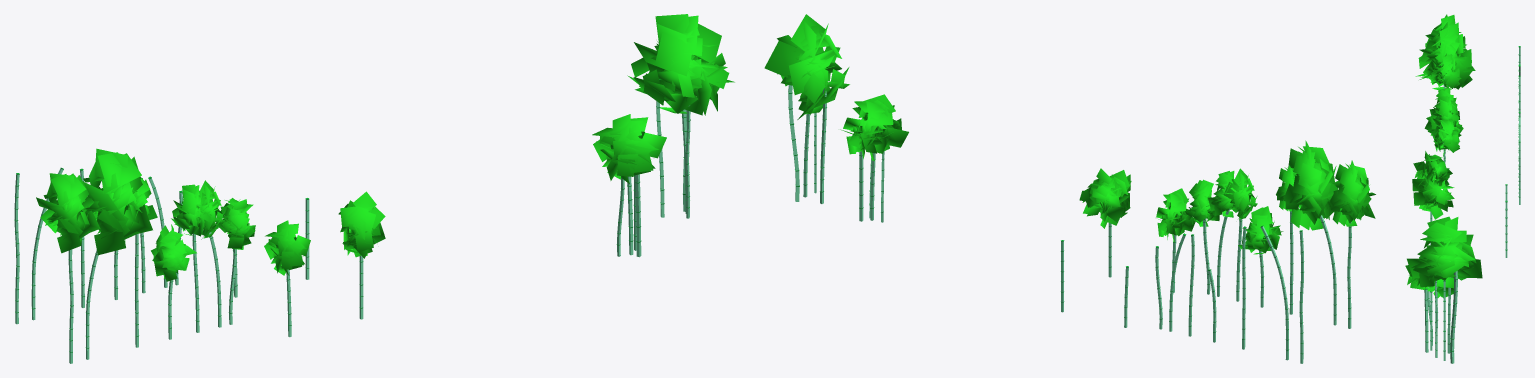
The model's file is Bamboo Shoots.fbx.
3 views of the same model, side by side, from view 1: azimuth 30°, elevation 25°; view 2: azimuth 150°, elevation 25°; view 3: azimuth 270°, elevation 25° (orthographic). The views are drawn at different scales.
Visible parts, largest first — view 1: Bamboo Batch 1, Bamboo 8, Bamboo Batch 2, Bamboo 9, Bamboo 1, Bamboo 6, Bamboo 4, Bamboo 5, Bamboo 2, Bamboo 3, Bamboo 7, Bamboo 9 Trunk; view 2: Bamboo Batch 1, Bamboo 8, Bamboo Batch 2, Bamboo 9, Bamboo 1, Bamboo 6, Bamboo 5, Bamboo 4, Bamboo 2, Bamboo 3, Bamboo 7, Bamboo 8 Trunk (+2 smaller); view 3: Bamboo Batch 1, Bamboo 8, Bamboo 1, Bamboo Batch 2, Bamboo 6, Bamboo 2, Bamboo 7, Bamboo 3, Bamboo 9, Bamboo 4, Bamboo 5, Bamboo 1 Trunk (+1 smaller).
Boxes of the visible parts, bbox=[...] form: Bamboo Batch 1: bbox=[627, 14, 734, 218]; Bamboo 8: bbox=[82, 148, 152, 359]; Bamboo Batch 2: bbox=[592, 114, 666, 257]; Bamboo 9: bbox=[36, 173, 100, 363]; Bamboo 1: bbox=[338, 191, 385, 319]; Bamboo 6: bbox=[264, 220, 310, 337]; Bamboo 4: bbox=[171, 184, 211, 332]; Bamboo 5: bbox=[151, 224, 196, 339]; Bamboo 2: bbox=[215, 198, 255, 324]; Bamboo 3: bbox=[196, 180, 224, 327]; Bamboo 7: bbox=[127, 178, 157, 347]; Bamboo 9 Trunk: bbox=[14, 173, 19, 324]; Bamboo Batch 1: bbox=[764, 14, 849, 203]; Bamboo 8: bbox=[1283, 140, 1343, 325]; Bamboo Batch 2: bbox=[840, 94, 908, 222]; Bamboo 9: bbox=[1329, 160, 1375, 328]; Bamboo 1: bbox=[1079, 168, 1131, 277]; Bamboo 6: bbox=[1156, 188, 1195, 292]; Bamboo 5: bbox=[1238, 206, 1283, 307]; Bamboo 4: bbox=[1223, 168, 1257, 301]; Bamboo 2: bbox=[1184, 179, 1219, 294]; Bamboo 3: bbox=[1208, 171, 1238, 296]; Bamboo 7: bbox=[1276, 165, 1299, 314]; Bamboo 8 Trunk: bbox=[1260, 225, 1288, 360]; Bamboo Batch 1: bbox=[1407, 216, 1482, 363]; Bamboo 8: bbox=[1415, 22, 1475, 90]; Bamboo 1: bbox=[1412, 172, 1454, 245]; Bamboo Batch 2: bbox=[1405, 265, 1453, 352]; Bamboo 6: bbox=[1413, 151, 1452, 186]; Bamboo 2: bbox=[1431, 119, 1459, 163]; Bamboo 7: bbox=[1430, 53, 1461, 164]; Bamboo 3: bbox=[1431, 96, 1459, 160]; Bamboo 9: bbox=[1425, 14, 1467, 51]; Bamboo 4: bbox=[1429, 88, 1459, 161]; Bamboo 5: bbox=[1424, 116, 1463, 136]; Bamboo 1 Trunk: bbox=[1505, 201, 1507, 257].
Size of what is drawn, in the model's own units: 12401 by 3810 by 2616.
